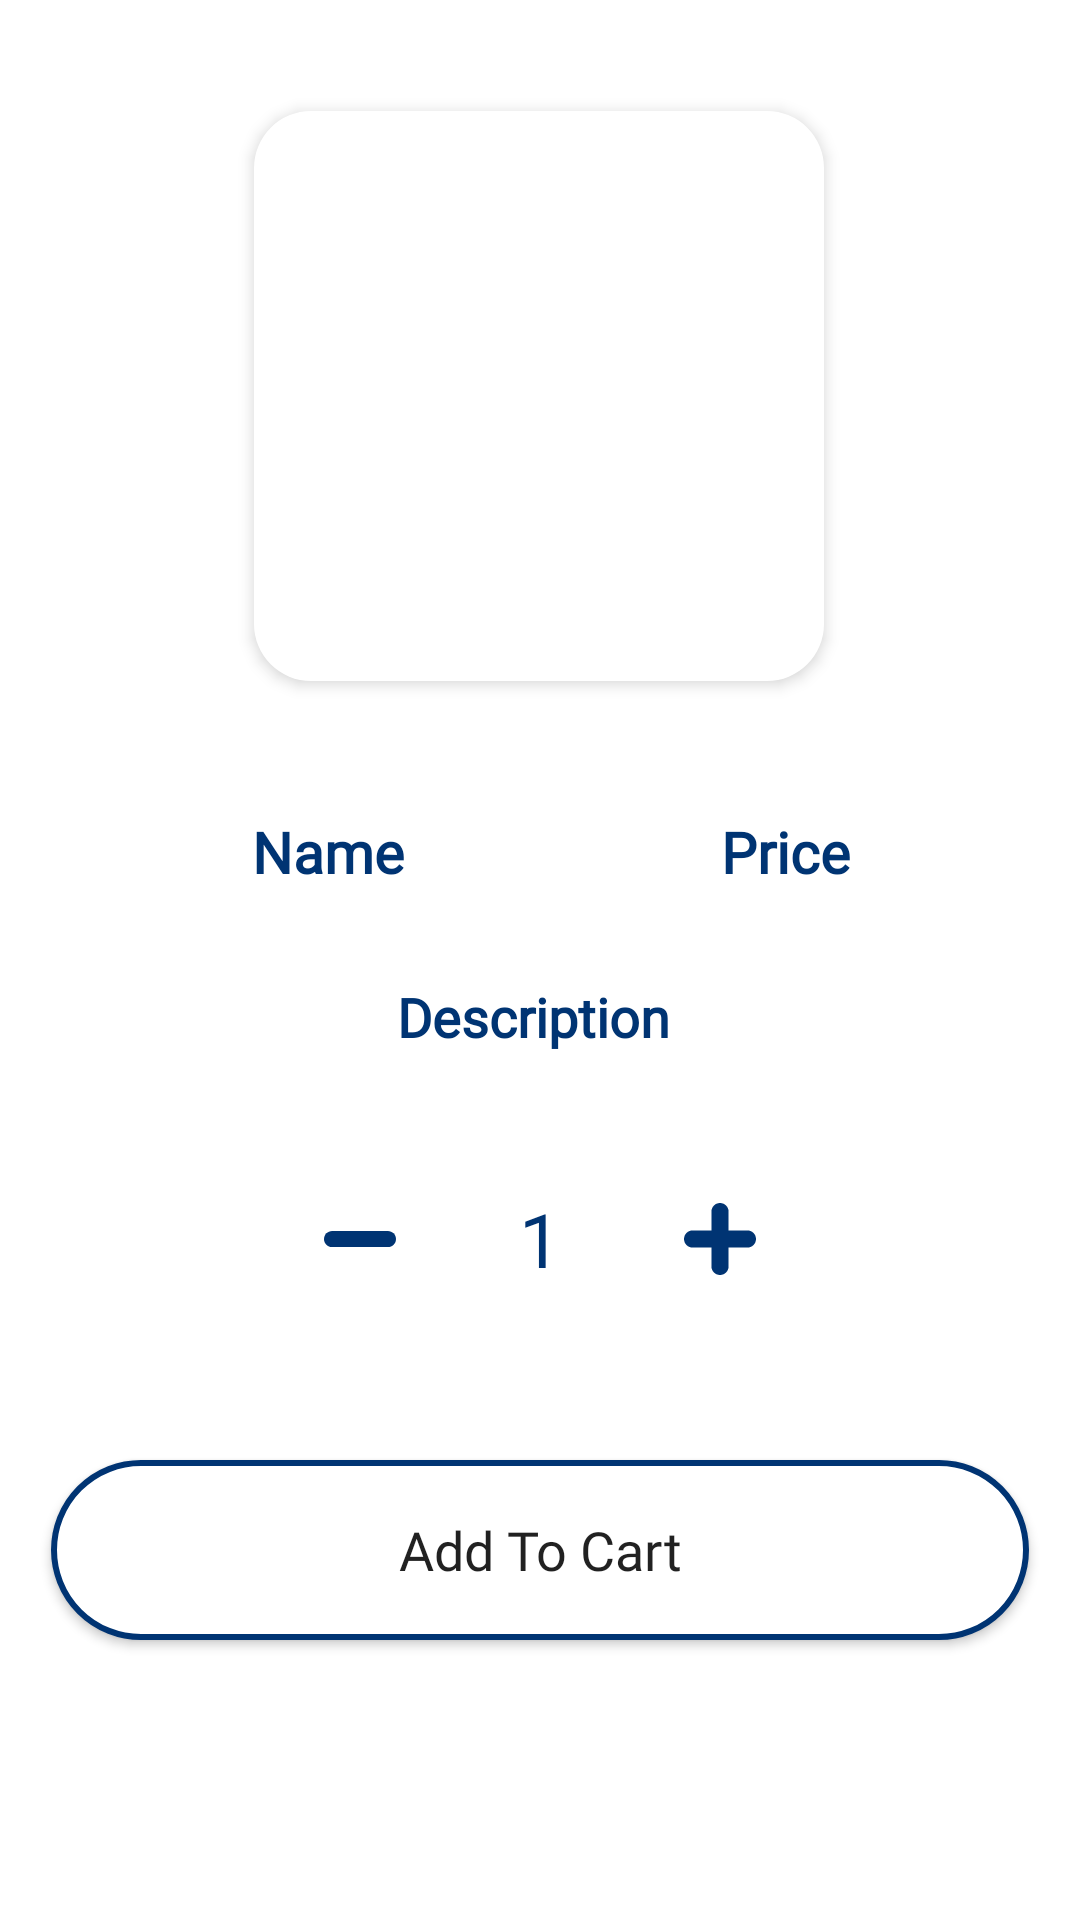

Point at icon controls on the screen. Image size 1080px×1920px, points as [x,y].
minus: [360,1239]
